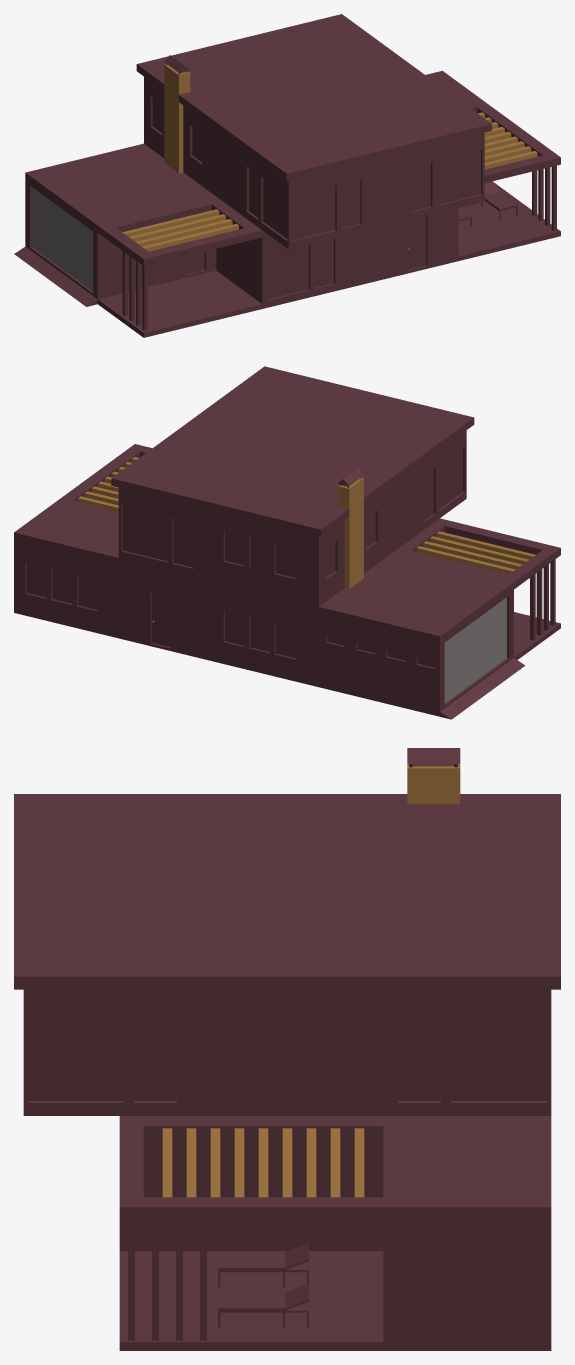
Rendered from building-house-modern-big.fbx.
3 renders of one model, top to bottom at view 1: azimuth 30°, elevation 25°; view 2: azimuth 150°, elevation 25°; view 3: azimuth 270°, elevation 25°, orthographic. The views are drawn at different scales.
Parts seen in each view (by area): view 1: building-house-modern-big; view 2: building-house-modern-big; view 3: building-house-modern-big.
Part boxes in pixels (box(x1,y1,x2,y2)): building-house-modern-big: box(14, 14, 560, 337); building-house-modern-big: box(14, 366, 560, 719); building-house-modern-big: box(14, 748, 560, 1350).
Bounding box in the file's own units: 18.8 × 7.77 × 11.4.
